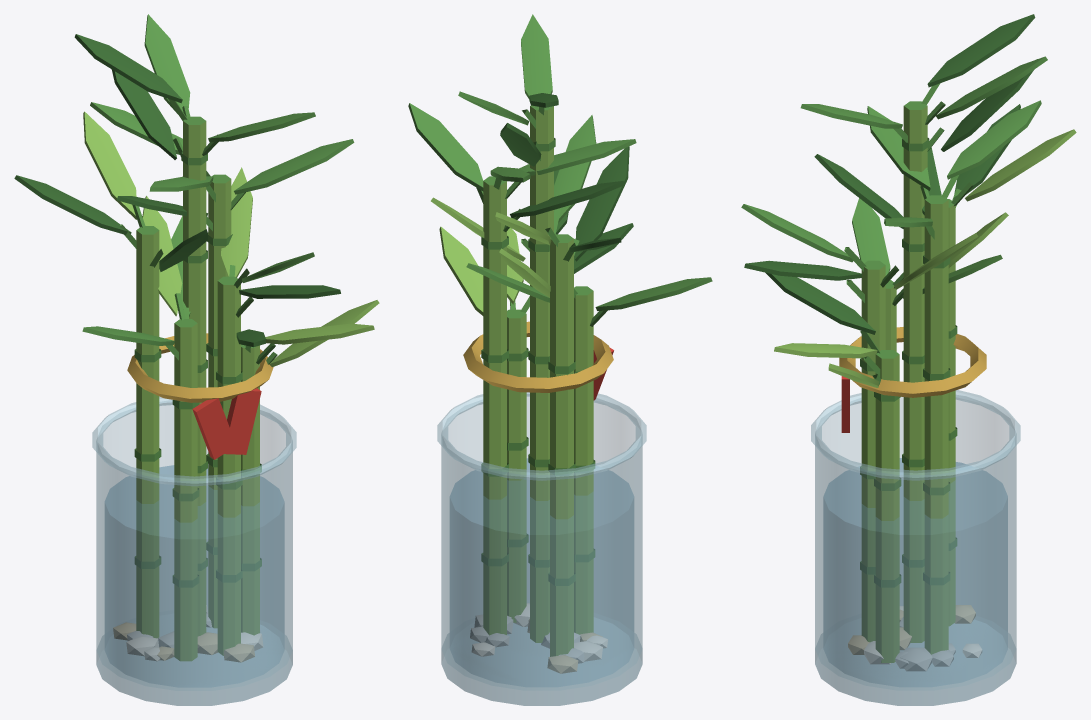
File: SC_Home_Potted_Plant_Lucky_Bamboo.gltf
The picture shows the model from 3 angles, left to right: view 1: azimuth 30°, elevation 25°; view 2: azimuth 150°, elevation 25°; view 3: azimuth 270°, elevation 25°; orthographic projection. The views are drawn at different scales.
Parts seen in each view (by area): view 1: SC_Home_Potted_Plant_Lucky_Bamboo; view 2: SC_Home_Potted_Plant_Lucky_Bamboo; view 3: SC_Home_Potted_Plant_Lucky_Bamboo.
Part boxes in pixels (x1,y1,x2,y2): SC_Home_Potted_Plant_Lucky_Bamboo: (14,14,379,705); SC_Home_Potted_Plant_Lucky_Bamboo: (408,14,712,705); SC_Home_Potted_Plant_Lucky_Bamboo: (741,14,1076,705).
Size of the model in its own units: 0.2406 by 0.4883 by 0.2397.
Materials: 2 (2 with a texture image).
